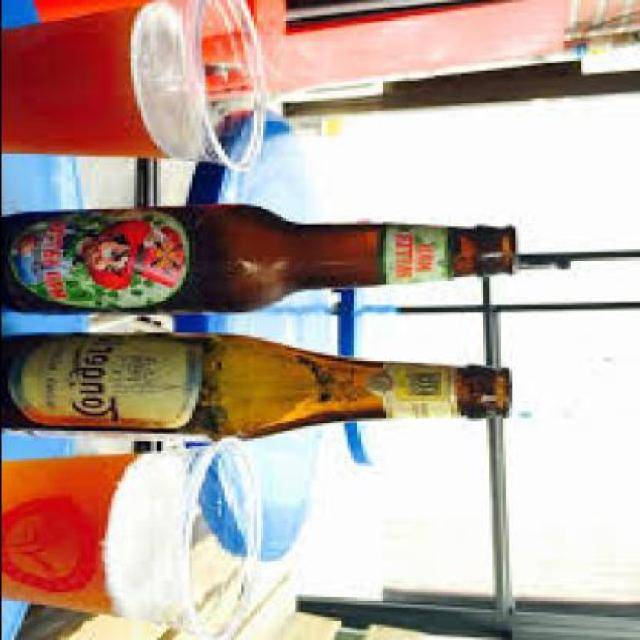GLASS: (3, 334, 511, 444), (3, 207, 517, 315)
PLASTIC: (3, 444, 265, 638), (3, 2, 268, 172)
